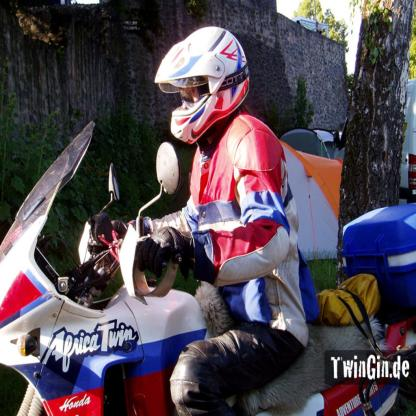Helmet: (154, 28, 253, 145)
